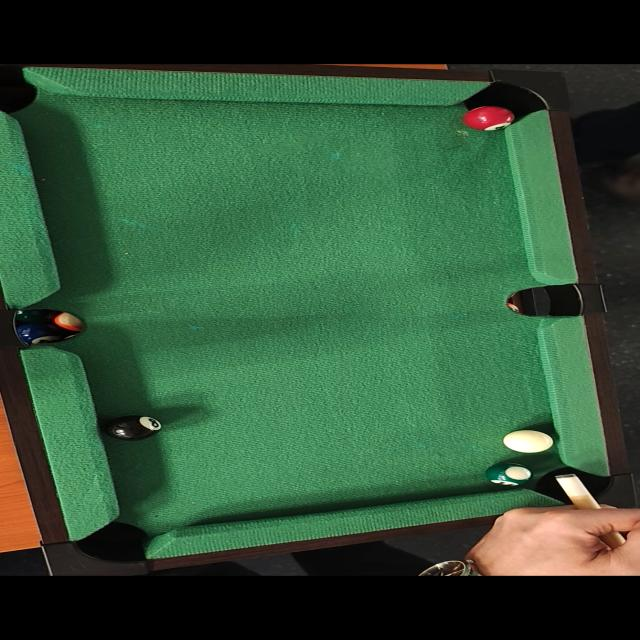cue ball: (490, 427, 558, 455)
other: (89, 413, 175, 443), (456, 102, 520, 133), (477, 462, 535, 488)
